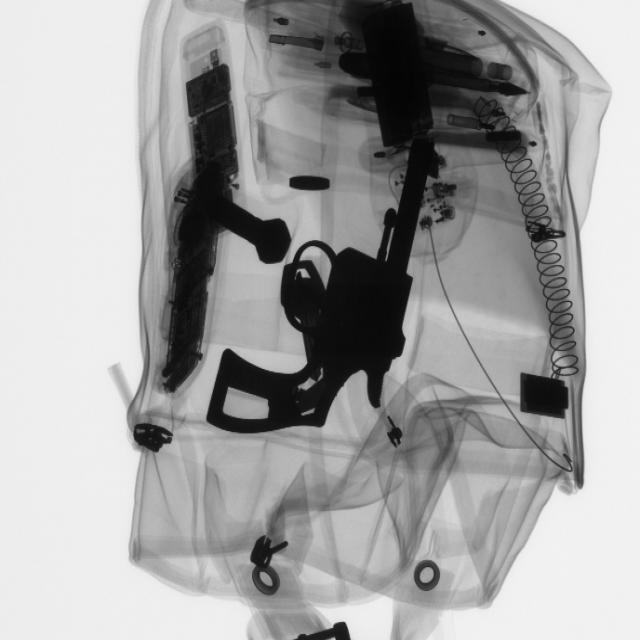GUN: (202, 126, 448, 443)
